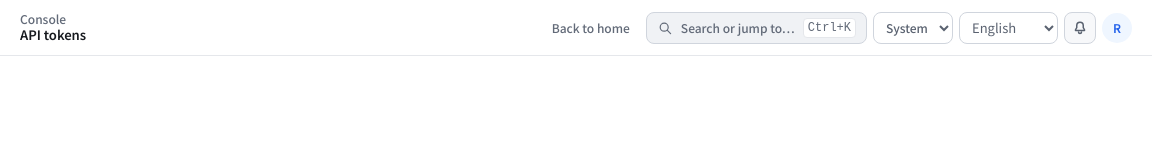
Test: AppTopbar › opens the account menu from the avatar and closes it with Escape
Click the button named "Account menu" at (1117, 28), box left=1102, top=12, right=1132, bottom=42
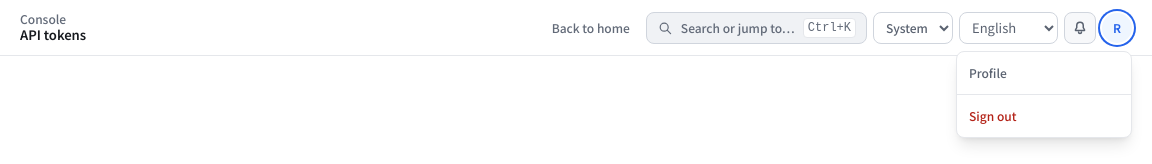
Expected: the menu item "Sign out" is shown, left=957, top=98, right=1131, bottom=132
Press Escape
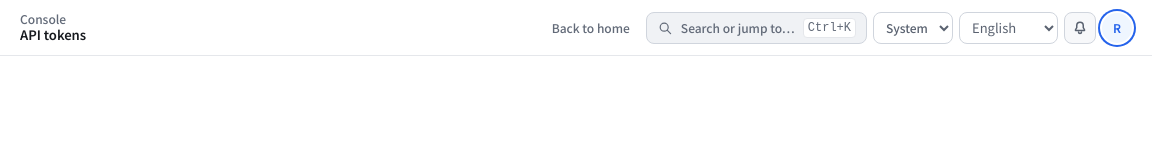
Expected: the menu is gone
